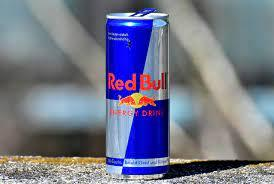metal: (103, 5, 174, 182)
